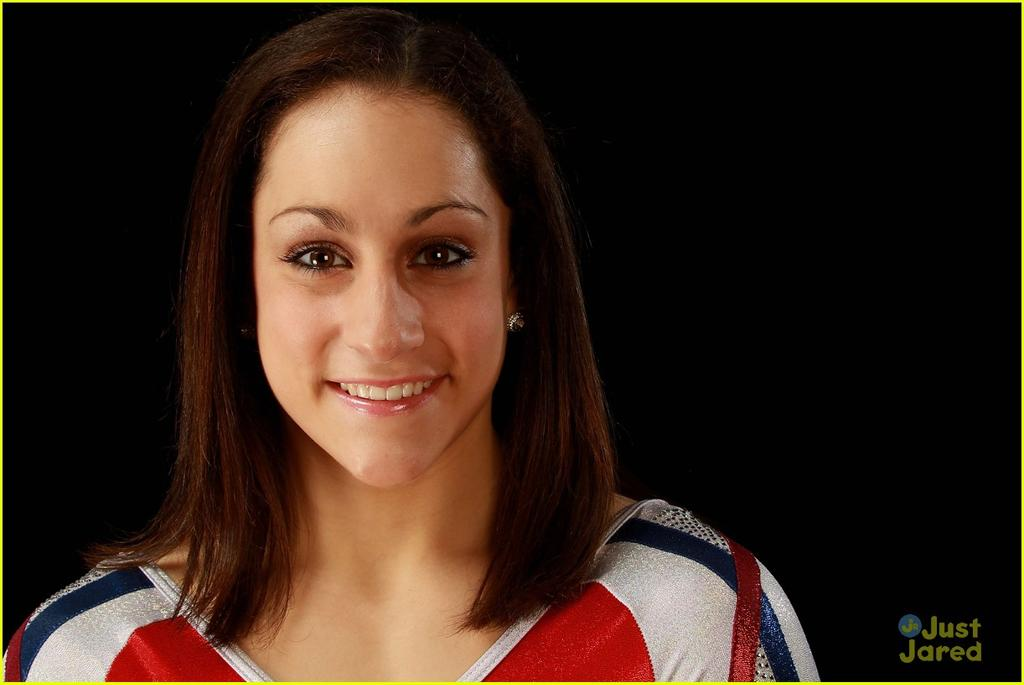face: (262, 98, 502, 474)
